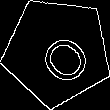O_NW: (24, 18, 90, 85)
